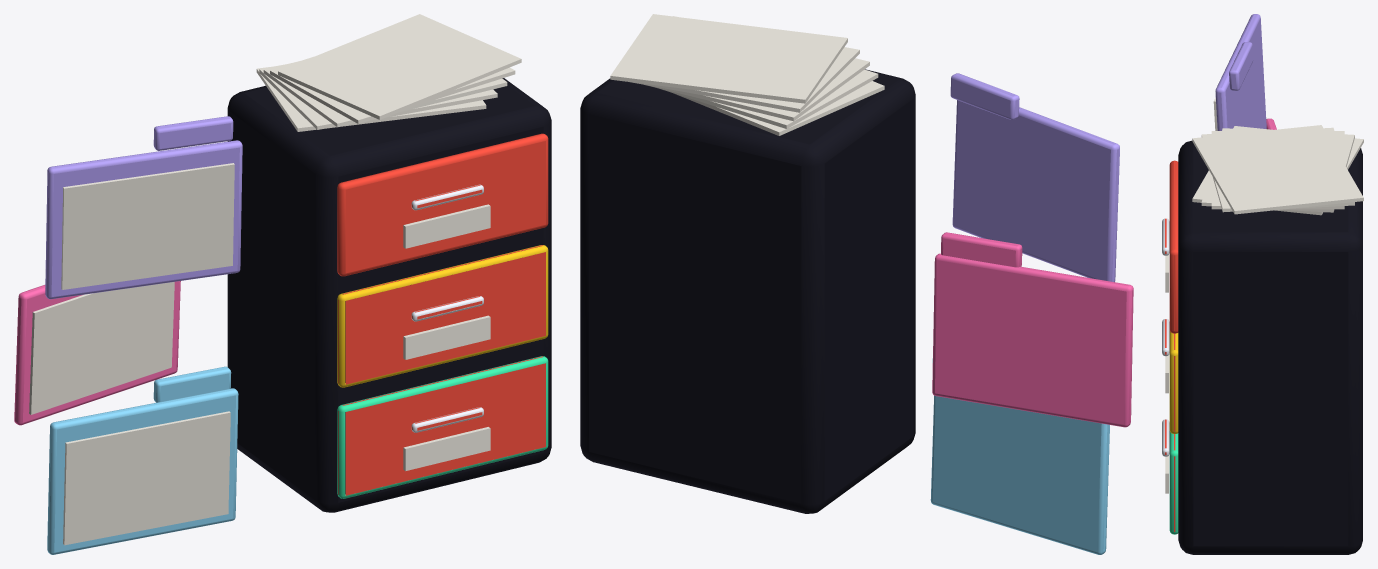
Rendered from archive.glb.
The picture shows the model from 3 angles, left to right: view 1: azimuth 30°, elevation 25°; view 2: azimuth 150°, elevation 25°; view 3: azimuth 270°, elevation 25°; orthographic projection. The views are drawn at different scales.
Visible parts, largest first — view 1: drawers, cabinet, bob_folder0, bob_folder2, papers, bob_folder1; view 2: cabinet, bob_folder1, bob_folder0, bob_folder2, papers; view 3: cabinet, papers, drawers, bob_folder0.
Boxes of the visible parts, left/top/right/bottom form: drawers: left=337, top=133, right=548, bottom=498; cabinet: left=227, top=78, right=551, bottom=512; bob_folder0: left=45, top=116, right=242, bottom=299; bob_folder2: left=47, top=366, right=238, bottom=554; papers: left=256, top=14, right=521, bottom=131; bob_folder1: left=14, top=281, right=180, bottom=425; cabinet: left=580, top=69, right=915, bottom=513; bob_folder1: left=932, top=232, right=1133, bottom=427; bob_folder0: left=950, top=73, right=1119, bottom=282; bob_folder2: left=930, top=358, right=1109, bottom=554; papers: left=610, top=14, right=884, bottom=135; cabinet: left=1178, top=140, right=1362, bottom=554; papers: left=1192, top=125, right=1363, bottom=215; drawers: left=1162, top=160, right=1178, bottom=534; bob_folder0: left=1213, top=14, right=1266, bottom=130.
Size of the model in its own units: 6.89 by 5.55 by 2.73.
